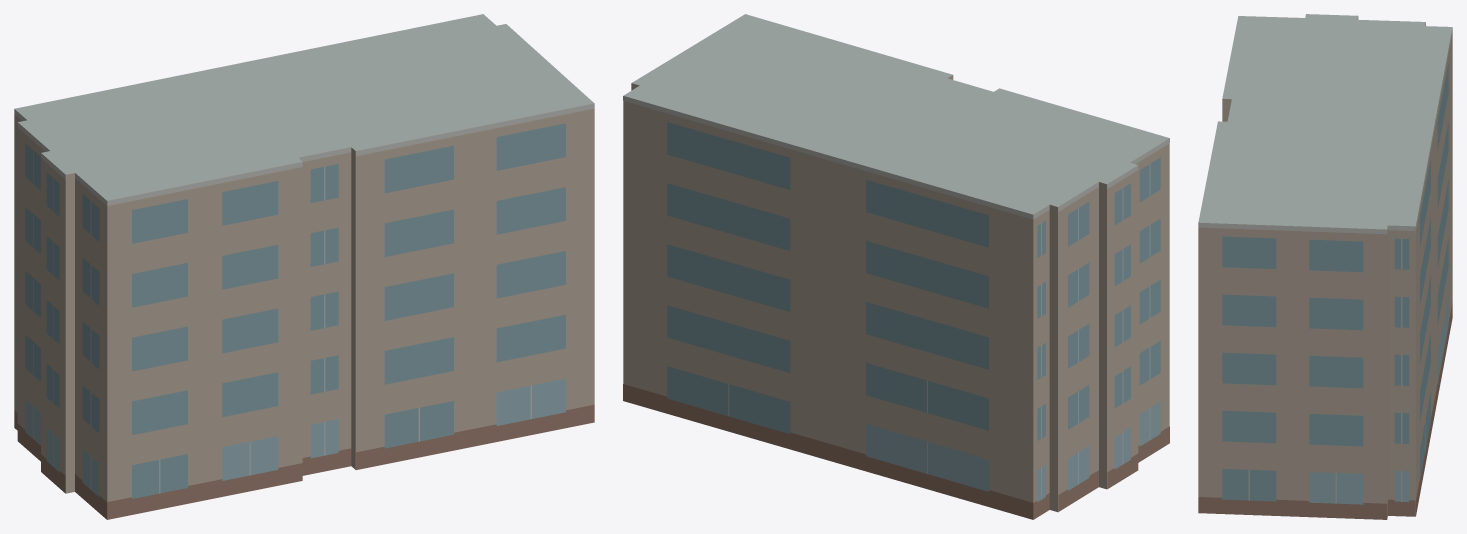
The model's file is survey-upis-32762301.glb.
The picture shows the model from 3 angles, left to right: view 1: azimuth 30°, elevation 25°; view 2: azimuth 150°, elevation 25°; view 3: azimuth 270°, elevation 25°; orthographic projection. The views are drawn at different scales.
Visible parts, largest first — view 1: survey-upis-32762301.tmp; view 2: survey-upis-32762301.tmp; view 3: survey-upis-32762301.tmp.
Part boxes in pixels (x1,y1,x2,y2): survey-upis-32762301.tmp: (14,14,594,519); survey-upis-32762301.tmp: (623,14,1169,519); survey-upis-32762301.tmp: (1198,14,1452,519).
Size of the model in its own units: 23.81 by 14.95 by 11.88.
